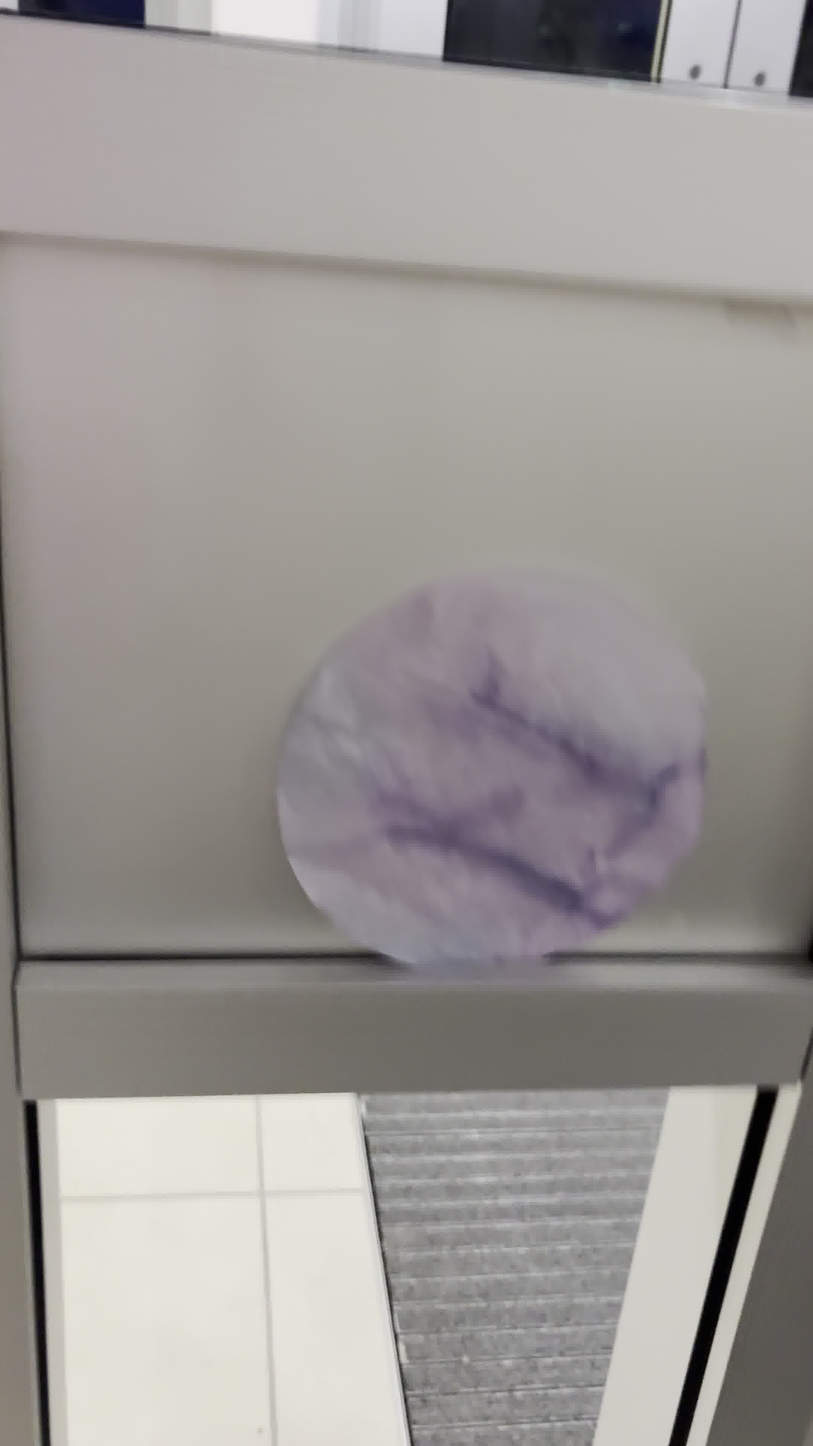Target: (263, 545, 728, 988)
